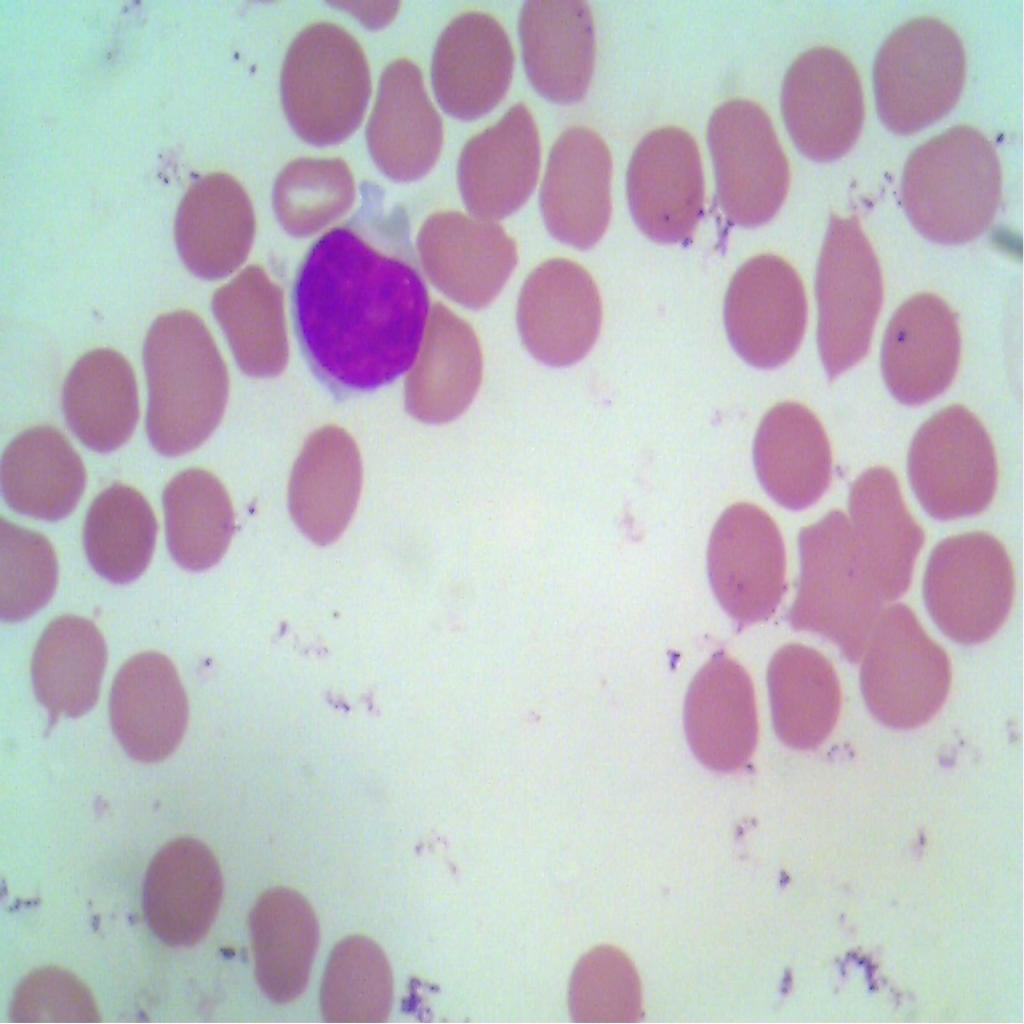Eritrosit: (893, 106, 1001, 261), (138, 308, 235, 464), (694, 491, 798, 630), (803, 212, 888, 378), (859, 12, 973, 135), (772, 41, 874, 178), (703, 82, 794, 234), (126, 818, 228, 952), (268, 20, 373, 150), (786, 512, 876, 660), (676, 644, 768, 788), (858, 604, 958, 734), (898, 395, 996, 527), (718, 246, 819, 372), (838, 459, 931, 594), (153, 444, 236, 594), (283, 417, 369, 561), (630, 117, 712, 268), (516, 255, 611, 384), (209, 268, 306, 394), (418, 201, 520, 318), (918, 532, 1022, 646), (738, 388, 832, 514), (879, 292, 976, 414), (451, 95, 542, 224), (364, 47, 450, 183), (404, 299, 491, 431), (419, 4, 514, 115), (513, 0, 609, 109), (241, 875, 318, 1010), (175, 169, 259, 291), (58, 335, 144, 452), (81, 467, 159, 595), (111, 644, 193, 765), (766, 634, 844, 758), (538, 128, 618, 244), (0, 417, 88, 521), (559, 930, 654, 1023), (28, 611, 108, 721), (314, 920, 398, 1023), (274, 148, 356, 249), (0, 518, 69, 638)
Limfoblast: (284, 224, 436, 399)
Platelet: (988, 114, 1023, 148)
